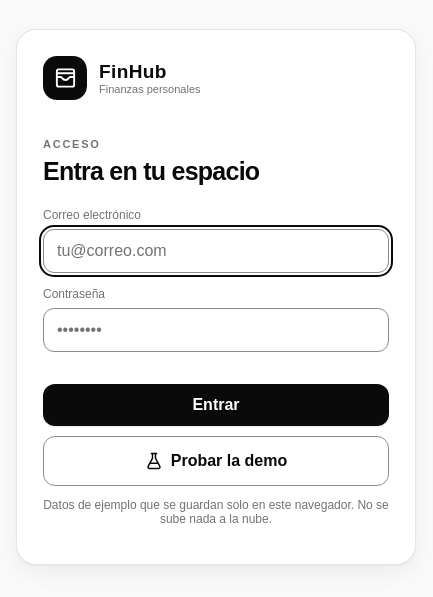
pantalla de login › muestra un error genérico con credenciales incorrectas
The image size is (433, 597).
Type "yo@correo.com" into the field labelled "Correo electrónico" at coordinates (216, 251), box [43, 229, 389, 273]
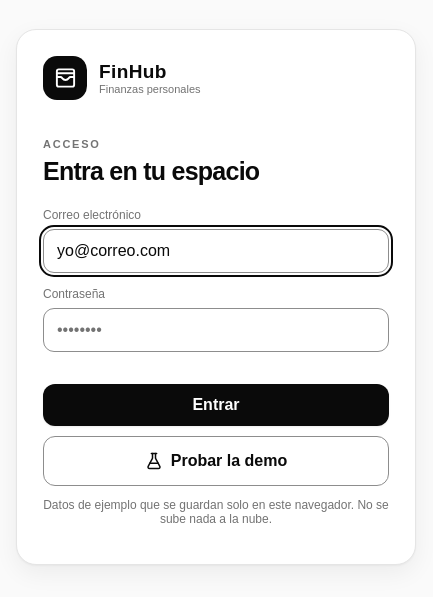
Type "secreta" into the password field labelled "Contraseña" at coordinates (216, 330), box [43, 308, 389, 352]
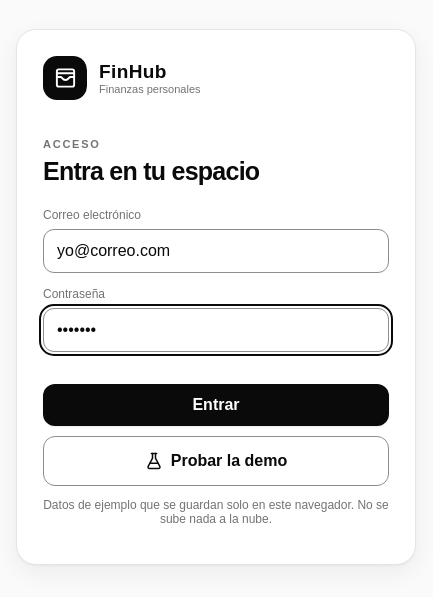
Click the button "Entrar" at coordinates (216, 405), box [43, 384, 389, 426]
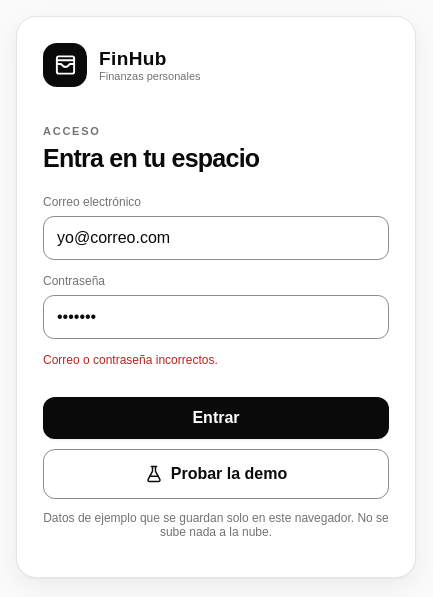
Expected: the message reads "Correo o contraseña incorrectos.", [43, 353, 218, 367]
